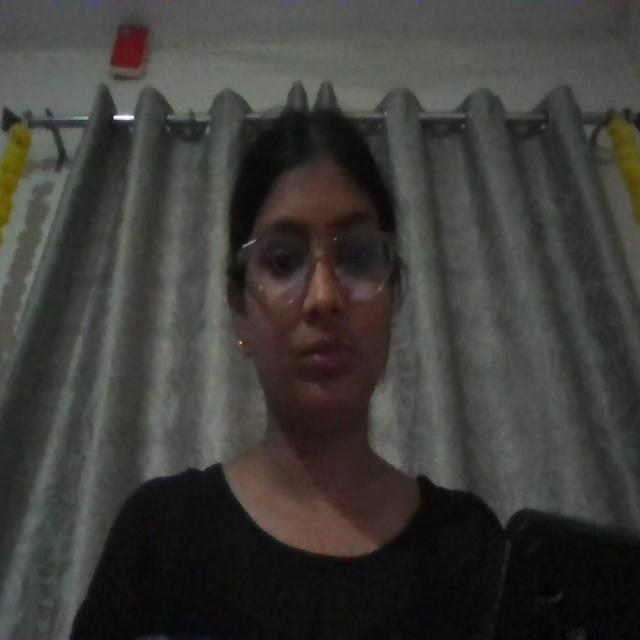phone: (508, 509, 639, 639)
